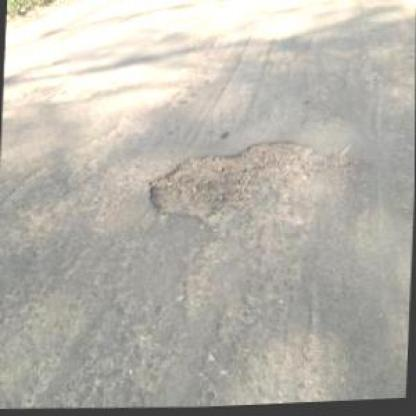pothole: (146, 137, 328, 240)
